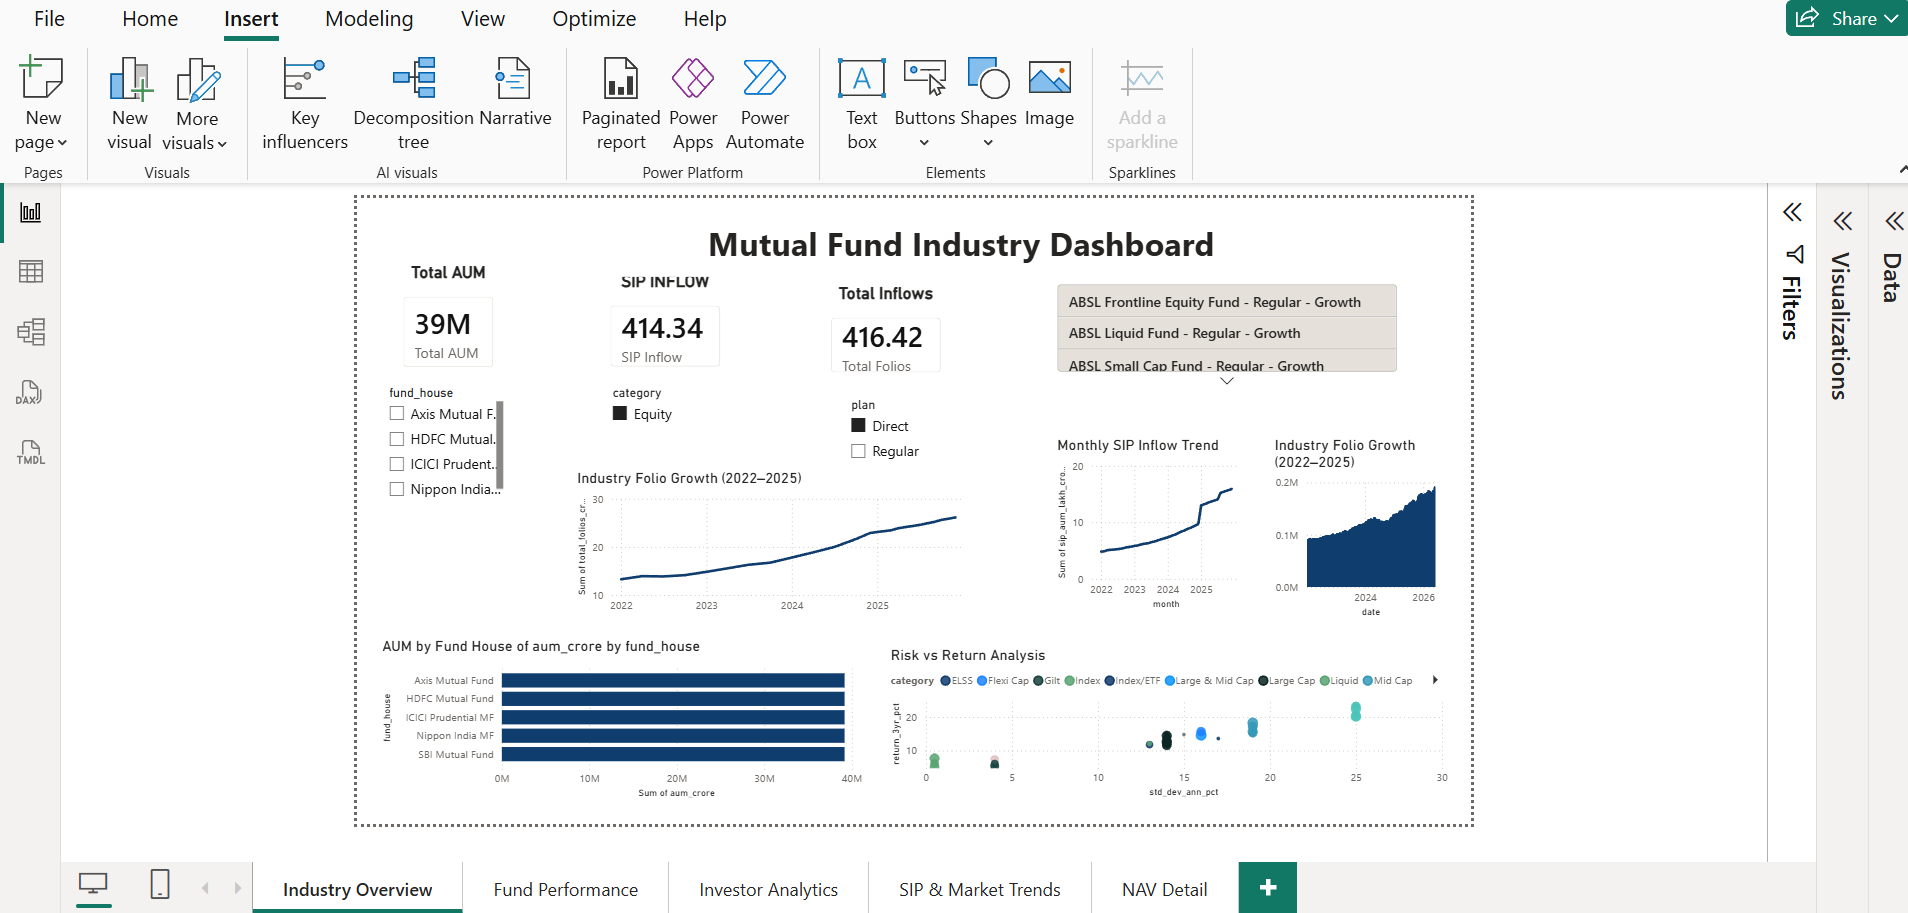

The dashboard page shown, as its layout file describes it:
{"tool":"powerbi","page":{"name":"Industry Overview","canvas":[1280,720],"ordinal":0},"visuals":[{"type":"cardVisual","title":"Total AUM","fields":{"Data":["Sum(03_aum_by_fund_house.aum_crore)"]},"box":[35.9,73.7,138,138],"z":0},{"type":"cardVisual","title":"SIP INFLOW","fields":{"Data":["Sum(04_monthly_sip_inflows.sip_aum_lakh_crore)"]},"box":[274,85,160.6,126.6],"z":1000},{"type":"cardVisual","title":"Total Inflows","fields":{"Data":["Sum(06_industry_folio_count.total_folios_crore)"]},"box":[527.2,98.3,160.6,119.1],"z":2000},{"type":"cardVisual","fields":{"Rows":["07_scheme_performance.scheme_name"]},"box":[799.4,73.7,400.6,151.2],"z":3000},{"type":"clusteredBarChart","title":" AUM by Fund House of aum_crore by fund_house","fields":{"Category":["01_fund_master.fund_house"],"Y":["Sum(03_aum_by_fund_house.aum_crore)"]},"box":[24.6,504.6,561.3,189],"z":4000},{"type":"lineChart","title":"Monthly SIP Inflow Trend","fields":{"Category":["04_monthly_sip_inflows.month"],"Y":["Sum(04_monthly_sip_inflows.sip_aum_lakh_crore)"]},"box":[799.4,274,223,202.2],"z":5000},{"type":"lineChart","title":"Industry Folio Growth (2022–2025)","fields":{"Category":["06_industry_folio_count.month"],"Y":["Sum(06_industry_folio_count.total_folios_crore)"]},"box":[247.6,311.8,457.3,173.9],"z":6000},{"type":"clusteredColumnChart","title":"Industry Folio Growth (2022–2025)","fields":{"Y":["Sum(10_benchmark_indices.close_value)"],"Category":["10_benchmark_indices.date"]},"box":[1050.7,274,207.9,211.7],"z":7000},{"type":"scatterChart","title":"Risk vs Return Analysis","fields":{"X":["07_scheme_performance.std_dev_ann_pct"],"Y":["07_scheme_performance.return_3yr_pct"],"Size":["Sum(07_scheme_performance.aum_crore)"],"Series":["07_scheme_performance.category"]},"box":[608.5,515.9,650.1,177.6],"z":8000},{"type":"slicer","fields":{"Values":["01_fund_master.fund_house"]},"box":[24.6,209.8,149.3,149.3],"z":9000},{"type":"slicer","fields":{"Values":["01_fund_master.category"]},"box":[281.6,209.8,209.8,102],"z":10000},{"type":"slicer","fields":{"Values":["01_fund_master.plan"]},"box":[555.6,224.9,149.3,98.3],"z":11000},{"type":"textbox","box":[226.8,0,882.5,90.7],"z":13001}]}

Visuals, with their boxes on the page's 1280x720 design canvas (x1, y1, x2, y2). These are canvas units, not pixel positions in the 1908x913 screenshot, which may show the page scaled, cropped or inside an application window:
"Total AUM" cardVisual: [36,74,174,212]
"SIP INFLOW" cardVisual: [274,85,435,212]
"Total Inflows" cardVisual: [527,98,688,217]
cardVisual - 07_scheme_performance.scheme_name: [799,74,1200,225]
" AUM by Fund House of aum_crore by fund_house" clusteredBarChart: [25,505,586,694]
"Monthly SIP Inflow Trend" lineChart: [799,274,1022,476]
"Industry Folio Growth (2022–2025)" lineChart: [248,312,705,486]
"Industry Folio Growth (2022–2025)" clusteredColumnChart: [1051,274,1259,486]
"Risk vs Return Analysis" scatterChart: [608,516,1259,694]
slicer - 01_fund_master.fund_house: [25,210,174,359]
slicer - 01_fund_master.category: [282,210,491,312]
slicer - 01_fund_master.plan: [556,225,705,323]
textbox: [227,0,1109,91]
